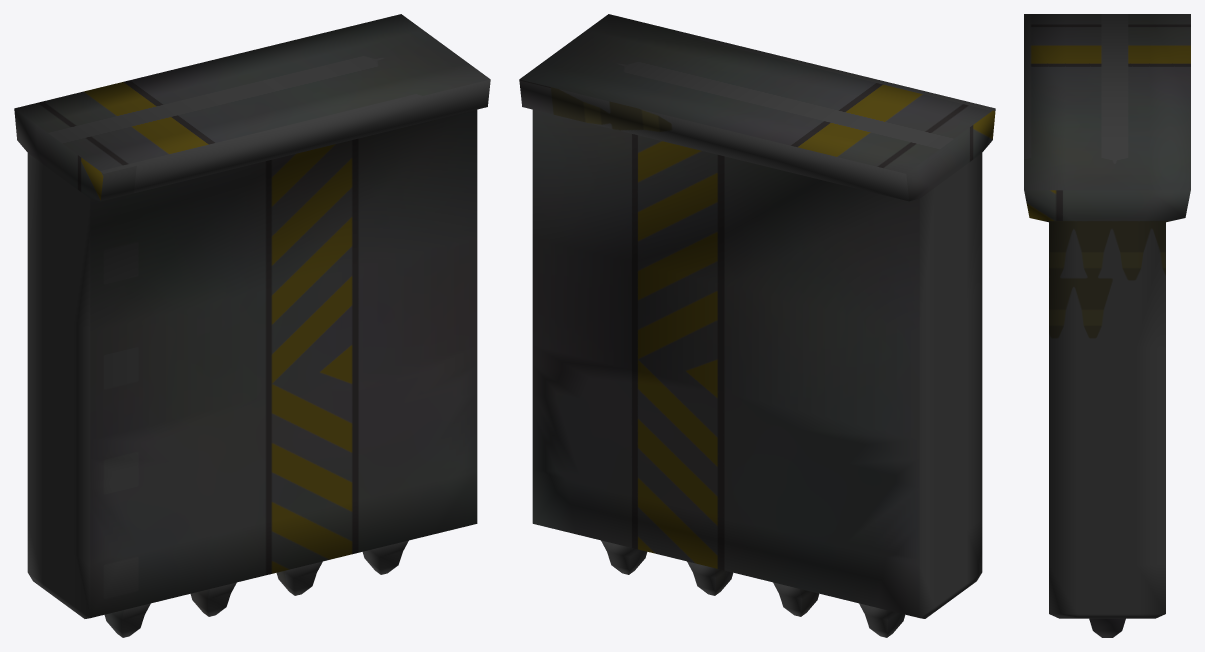
Rendered from Gate_final.gltf.
3 renders of one model, left to right at view 1: azimuth 30°, elevation 25°; view 2: azimuth 150°, elevation 25°; view 3: azimuth 270°, elevation 25°, orthographic. The views are drawn at different scales.
Parts seen in each view (by area): view 1: Cube.001; view 2: Cube.001; view 3: Cube.001.
Part boxes in pixels (left/top/right/bottom): Cube.001: left=14, top=14, right=490, bottom=637; Cube.001: left=519, top=14, right=995, bottom=637; Cube.001: left=1024, top=14, right=1190, bottom=637.
Size of the model in its own units: 6 by 7.55 by 2.4.
1 material, 1 textured.
